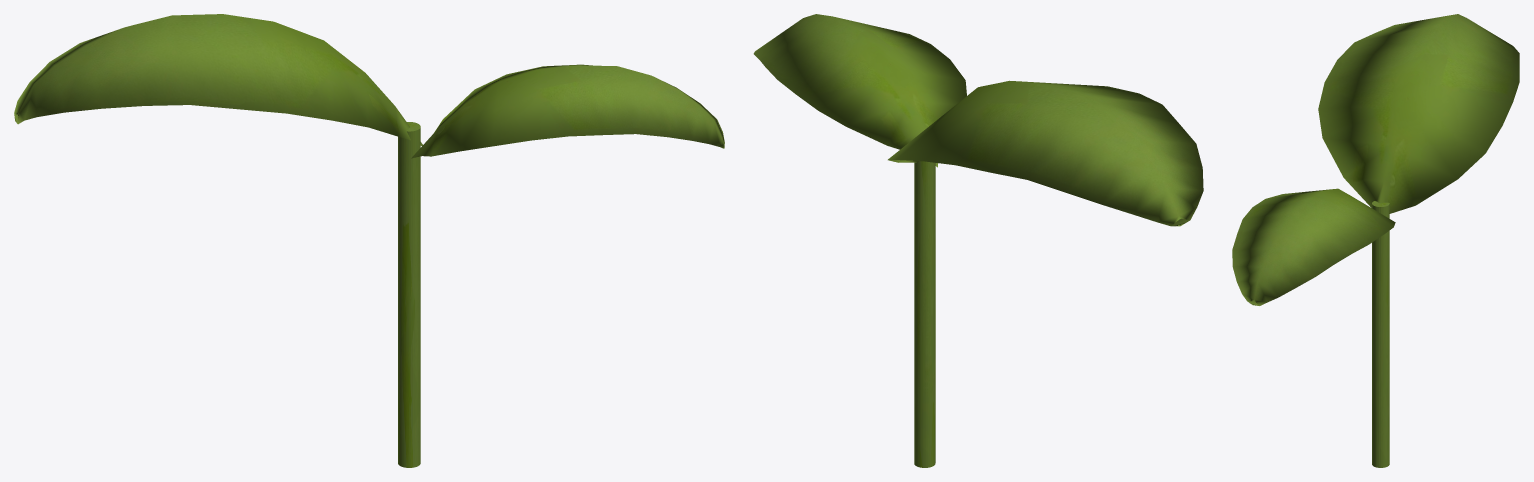
File: leap.glb
3 views of the same model, side by side, from view 1: azimuth 30°, elevation 25°; view 2: azimuth 150°, elevation 25°; view 3: azimuth 270°, elevation 25° (orthographic). The views are drawn at different scales.
Parts seen in each view (by area): view 1: tripo_part_27; view 2: tripo_part_27; view 3: tripo_part_27.
Part boxes in pixels (x1,y1,x2,y2): tripo_part_27: (14,14,724,467); tripo_part_27: (753,14,1203,467); tripo_part_27: (1232,14,1519,467).
Size of the model in its own units: 0.1562 by 0.1207 by 0.0864.
3 materials, 3 textured.
